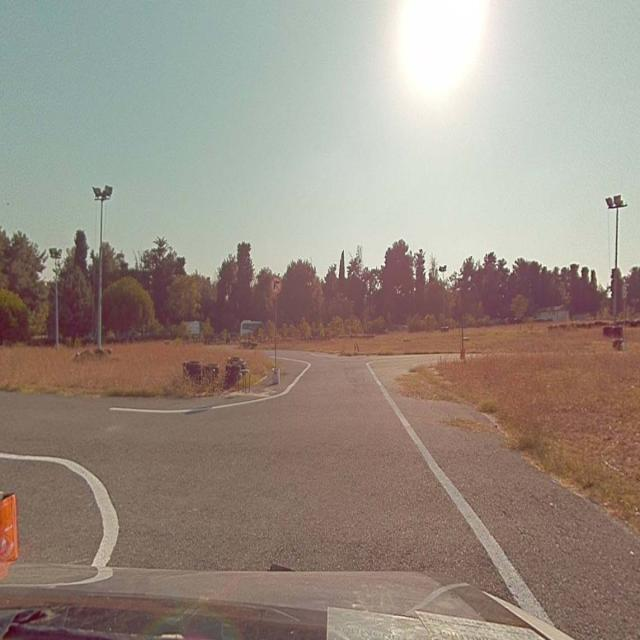sagadonulmez: (271, 275, 281, 293)
